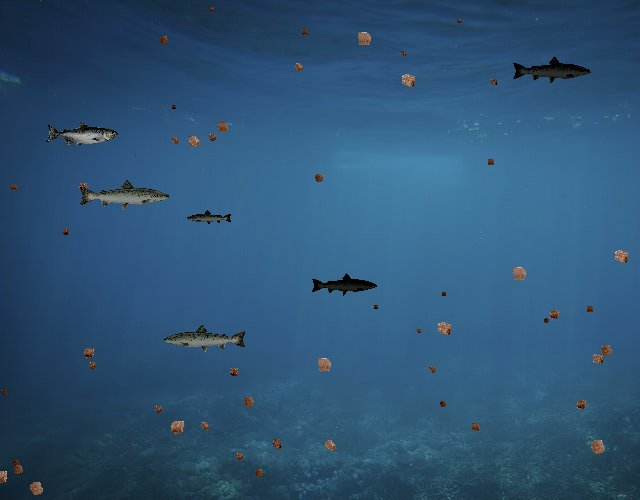Fish: (77, 179, 171, 212), (162, 323, 248, 354), (511, 55, 592, 84), (46, 122, 119, 148), (310, 272, 378, 297), (187, 209, 234, 226)
Pellet: (163, 413, 191, 441), (182, 129, 207, 154), (318, 433, 342, 457), (8, 459, 29, 480), (167, 132, 184, 149), (84, 358, 100, 374), (486, 75, 501, 89), (540, 314, 553, 327), (206, 4, 216, 14)
